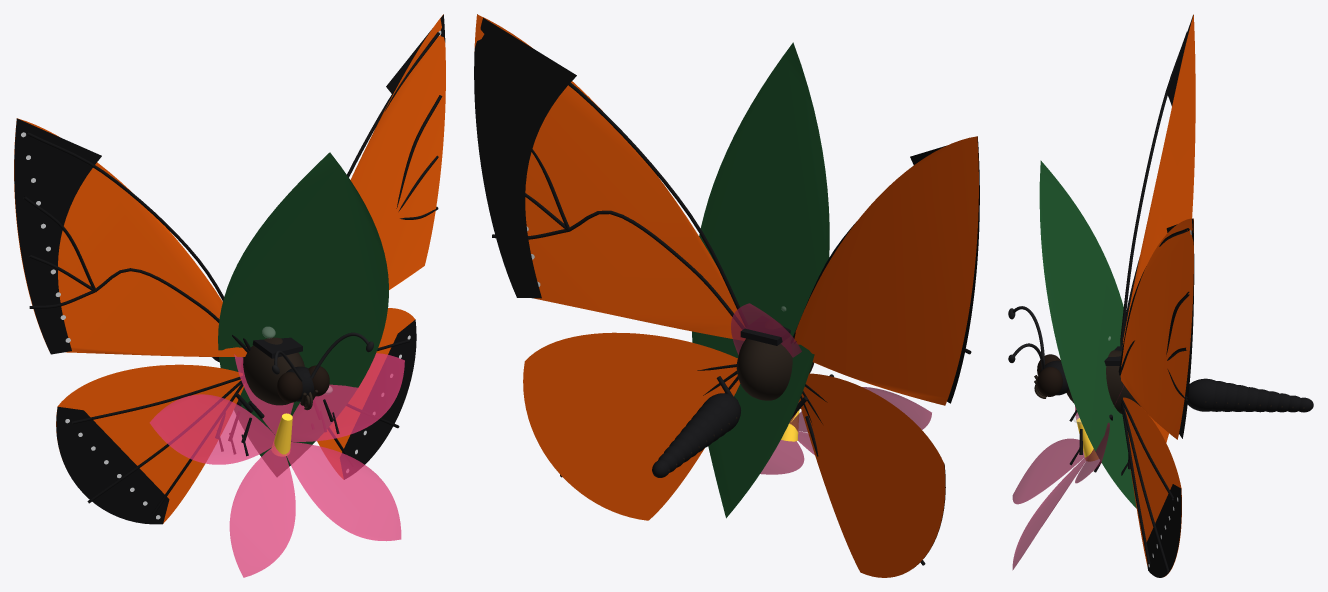
File: monarch_butterfly.glb
3 views of the same model, side by side, from view 1: azimuth 30°, elevation 25°; view 2: azimuth 150°, elevation 25°; view 3: azimuth 270°, elevation 25° (orthographic). The views are drawn at different scales.
Parts seen in each view (by area): view 1: Perch_Monstera_Leaf, Perch_Orchid_Blossom, Left_Forewing_Mesh, Right_Forewing_Mesh, Left_Hindwing_Mesh, Left_Forewing, Left_Hindwing, Right_Hindwing, Right_Hindwing_Mesh, Anatomy_Thorax, Right_Forewing, Flower_Nectar_Center (+2 smaller); view 2: Left_Forewing_Mesh, Right_Forewing_Mesh, Perch_Monstera_Leaf, Right_Hindwing_Mesh, Left_Hindwing_Mesh, Right_Forewing, Perch_Orchid_Blossom, Anatomy_Thorax, Anatomy_Abdomen, Left_Forewing; view 3: Perch_Monstera_Leaf, Right_Forewing_Mesh, Left_Forewing_Mesh, Perch_Orchid_Blossom, Right_Hindwing_Mesh, Right_Hindwing, Anatomy_Abdomen, Left_Forewing, Right_Forewing, Anatomy_Thorax, Right_Compound_Eye, Anatomy_Head.
Part boxes in pixels (x1,y1,x2,y2): Perch_Monstera_Leaf: (218, 152, 388, 476); Perch_Orchid_Blossom: (149, 353, 404, 577); Left_Forewing_Mesh: (14, 118, 246, 356); Right_Forewing_Mesh: (350, 14, 445, 289); Left_Hindwing_Mesh: (56, 364, 244, 523); Left_Forewing: (14, 118, 250, 354); Left_Hindwing: (56, 376, 244, 524); Right_Hindwing: (328, 319, 416, 479); Right_Hindwing_Mesh: (317, 308, 415, 479); Anatomy_Thorax: (241, 337, 304, 405); Right_Forewing: (347, 14, 445, 219); Flower_Nectar_Center: (271, 413, 292, 456); Left_Forewing_Mesh: (794, 136, 978, 405); Right_Forewing_Mesh: (474, 14, 745, 340); Perch_Monstera_Leaf: (692, 42, 829, 518); Right_Hindwing_Mesh: (523, 332, 740, 520); Left_Hindwing_Mesh: (799, 373, 945, 577); Right_Forewing: (474, 14, 747, 329); Perch_Orchid_Blossom: (731, 303, 931, 474); Anatomy_Thorax: (736, 316, 813, 400); Anatomy_Abdomen: (652, 393, 740, 477); Left_Forewing: (791, 136, 979, 403); Perch_Monstera_Leaf: (1039, 160, 1136, 508); Right_Forewing_Mesh: (1120, 218, 1193, 439); Left_Forewing_Mesh: (1122, 14, 1195, 345); Perch_Orchid_Blossom: (1012, 385, 1124, 570); Right_Hindwing_Mesh: (1123, 397, 1181, 576); Right_Hindwing: (1121, 399, 1181, 577); Anatomy_Abdomen: (1187, 378, 1313, 412); Left_Forewing: (1120, 15, 1193, 346); Right_Forewing: (1118, 218, 1194, 438); Anatomy_Thorax: (1066, 346, 1140, 413); Right_Compound_Eye: (1037, 367, 1062, 396); Anatomy_Head: (1008, 308, 1068, 395).
Size of the model in its own units: 3.45 by 3.24 by 2.15.
